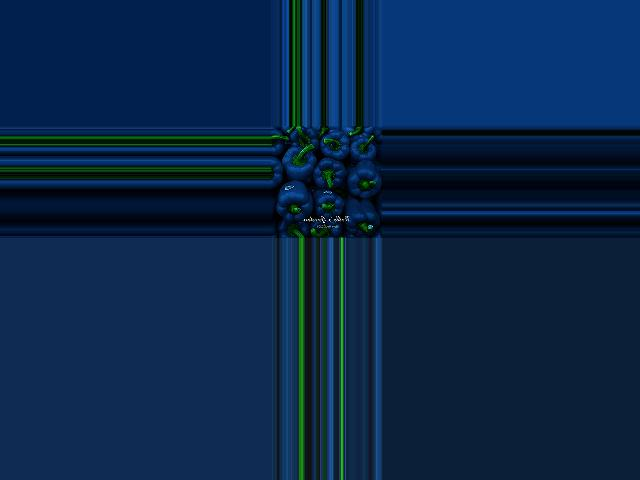bell_pepper: (273, 215, 311, 238)
